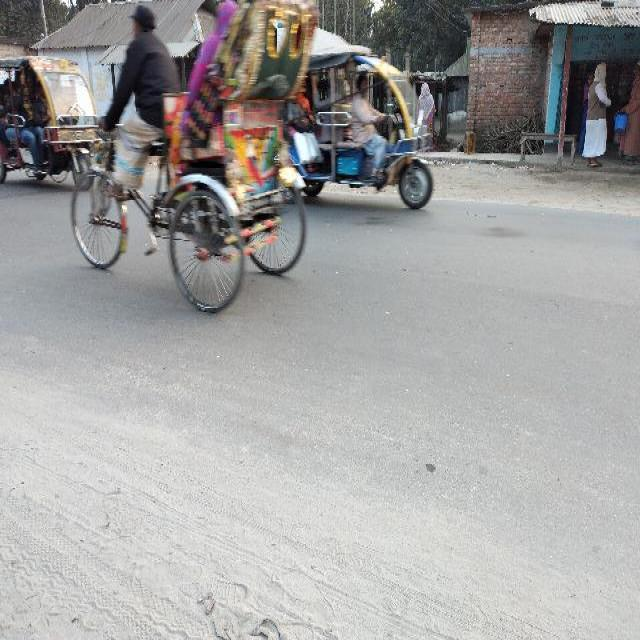vehicle: (68, 1, 318, 318), (266, 47, 438, 222), (1, 57, 101, 198)
